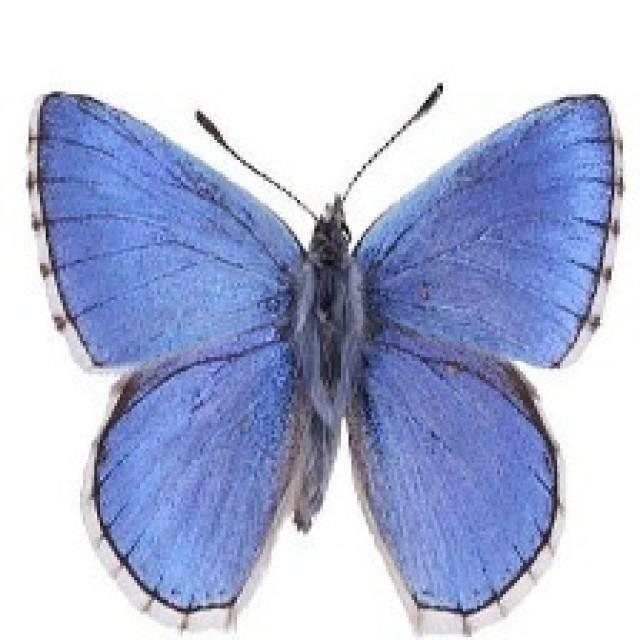butterfly: (31, 83, 625, 633)
